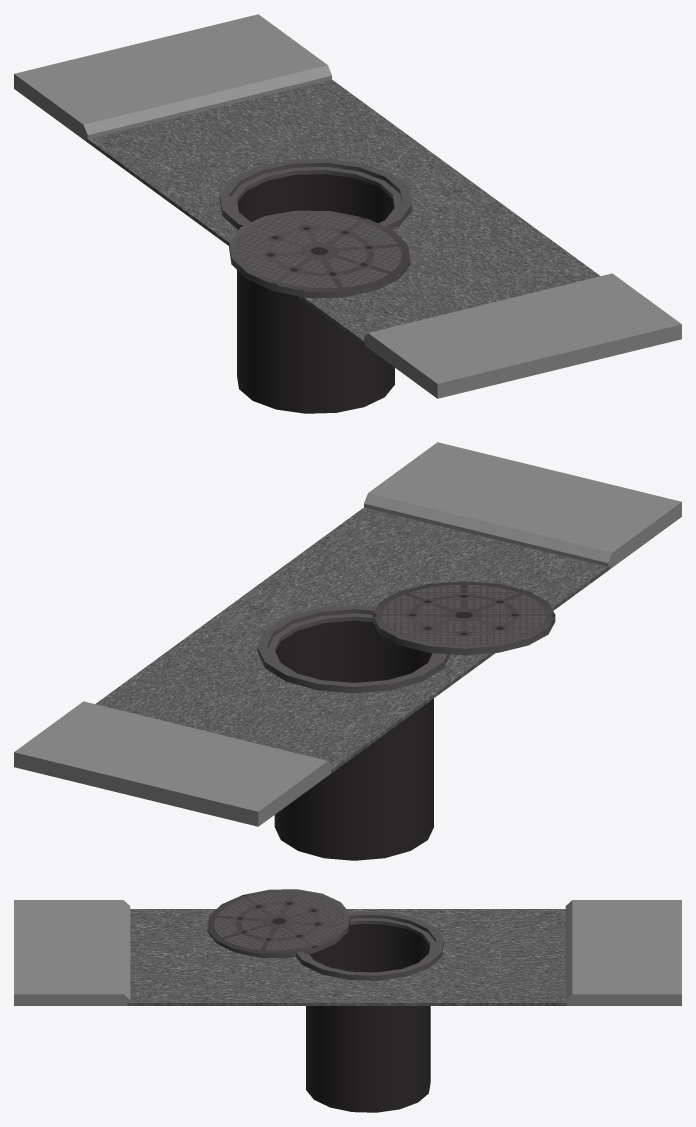
File: obj_manhole_open_road.fbx
The picture shows the model from 3 angles, top to bottom: view 1: azimuth 30°, elevation 25°; view 2: azimuth 150°, elevation 25°; view 3: azimuth 270°, elevation 25°; orthographic projection. The views are drawn at different scales.
Visible parts, largest first — view 1: obj_manhole_open_road; view 2: obj_manhole_open_road; view 3: obj_manhole_open_road.
Boxes of the visible parts, bbox=[...] form: obj_manhole_open_road: bbox=[14, 14, 681, 413]; obj_manhole_open_road: bbox=[14, 442, 681, 860]; obj_manhole_open_road: bbox=[14, 889, 681, 1112].
Bounding box in the file's own units: 5.26 × 3.47 × 14.15.
Materials: 1 (1 with a texture image).
